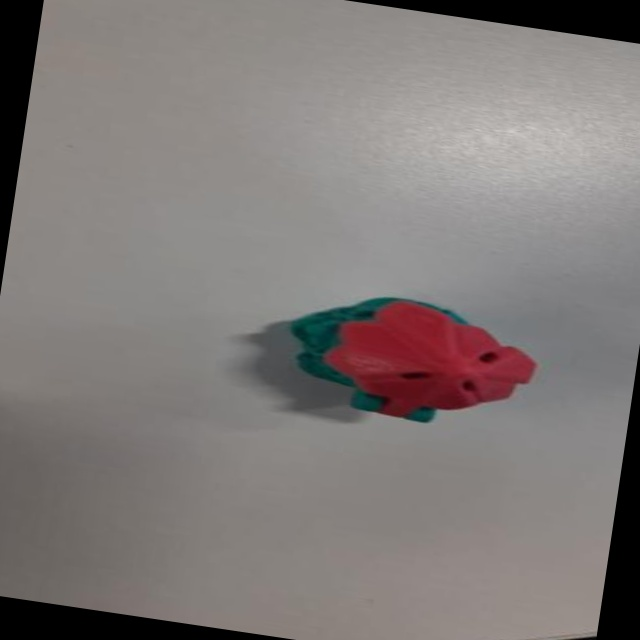House: (265, 273, 547, 437)
